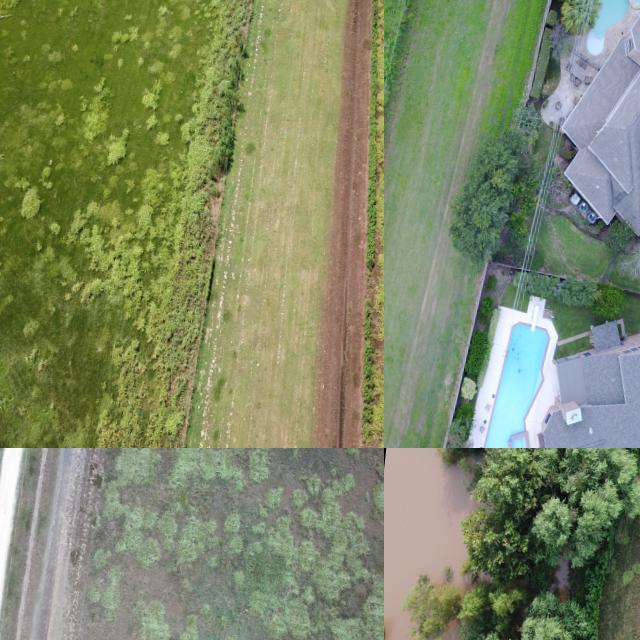fire: (384, 448, 473, 640)
